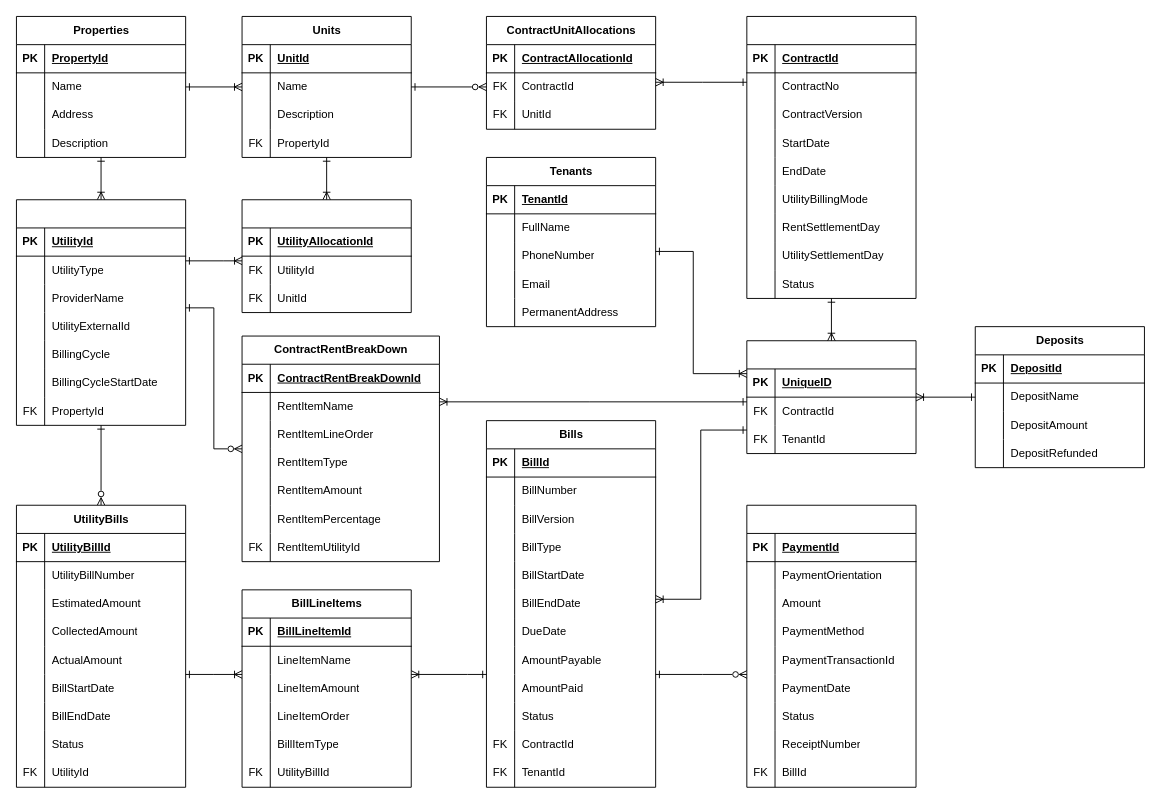
The diagram is 1161 pixels wide and 804 high, and some of its shapes have lost their labels. Here are the shapes that lost their labels. From the top down, the box of each, then its label:
(746, 16, 916, 298): Contracts
(241, 199, 411, 313): UtilityUnitAllocations
(16, 199, 186, 425): Utilities
(746, 340, 916, 454): TenantContractAllocation
(746, 504, 916, 787): Payments
